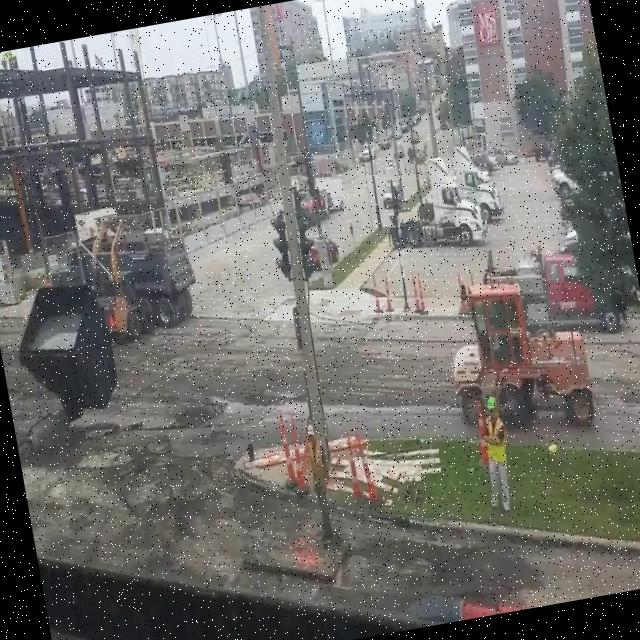Dump Truck: (42, 216, 204, 346), (476, 224, 630, 354)
Loader: (70, 210, 146, 346)
Roller: (436, 263, 598, 445)
